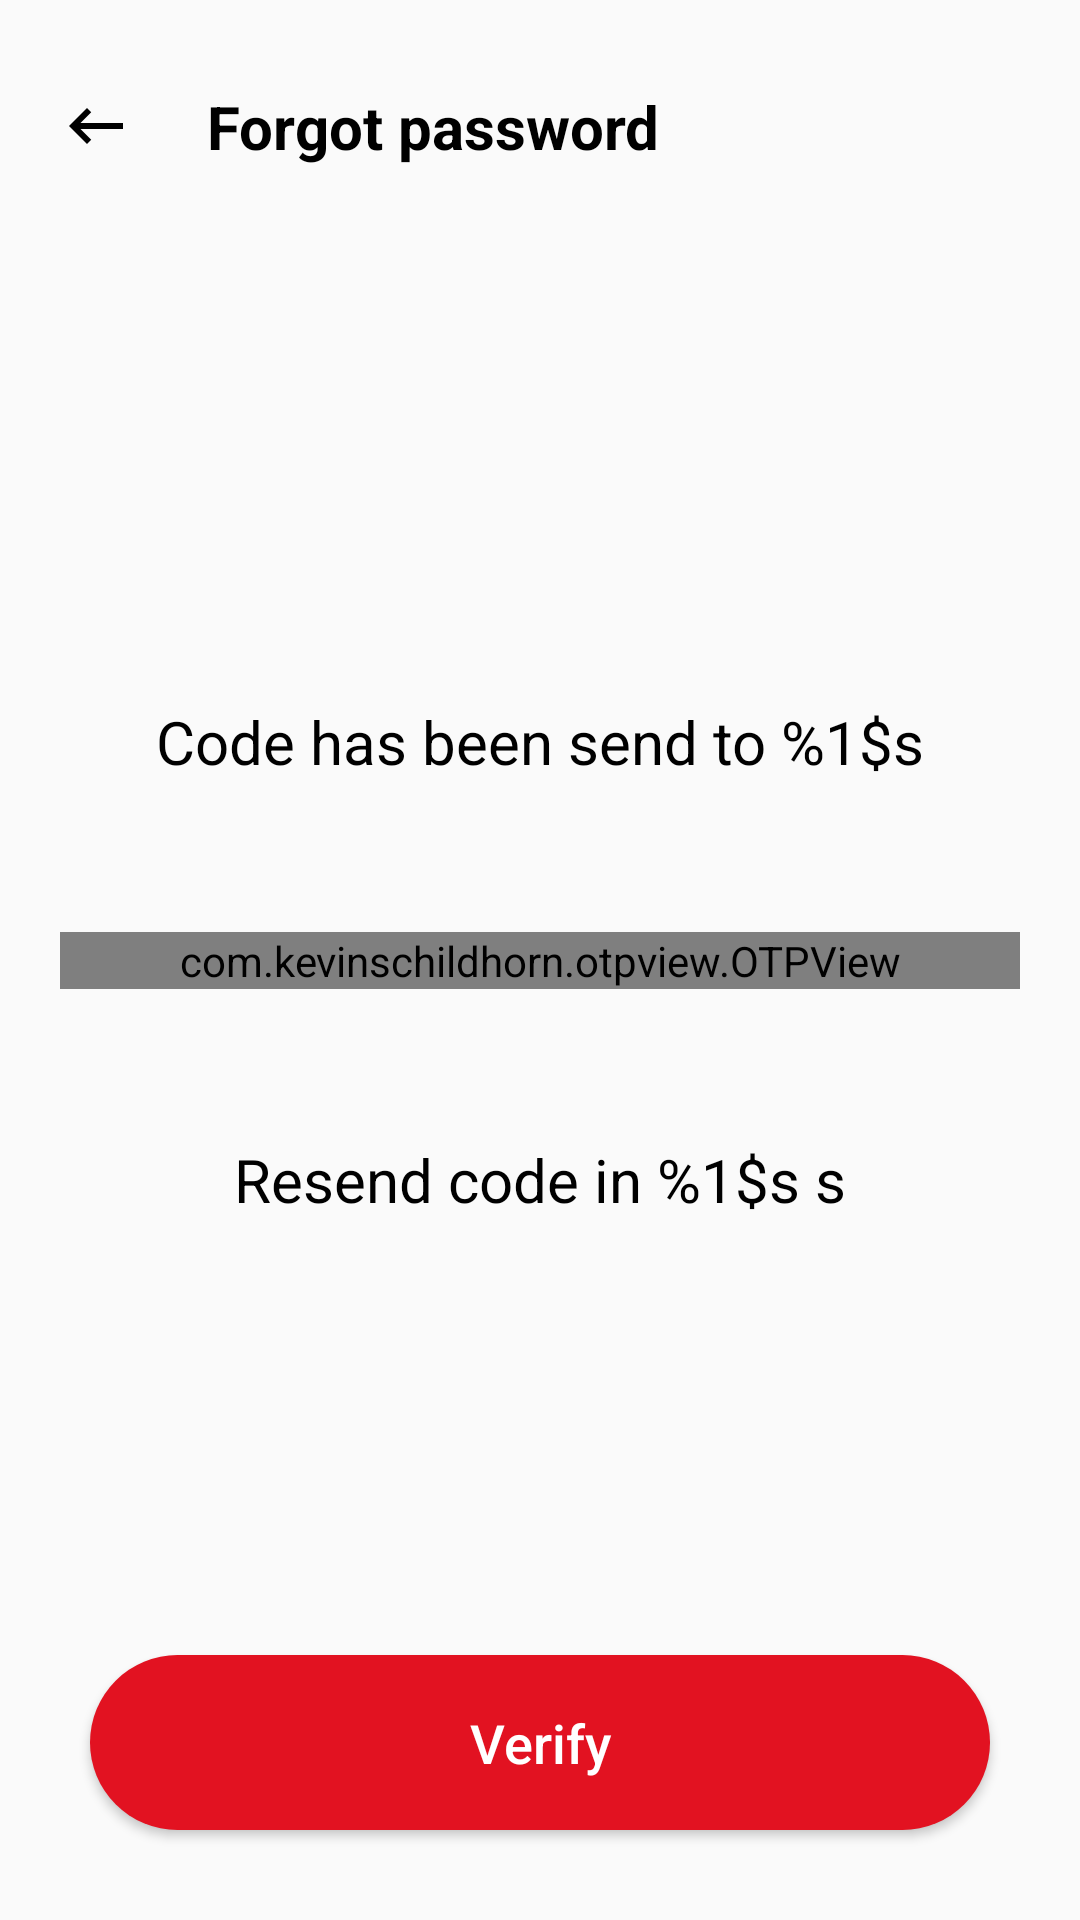

Where icons sit on this 1080 x 1920 app screen, as (x1=x1, y1=y1, x2=x2, y2=y2):
arrow left: (x1=69, y1=108, x2=123, y2=144)
